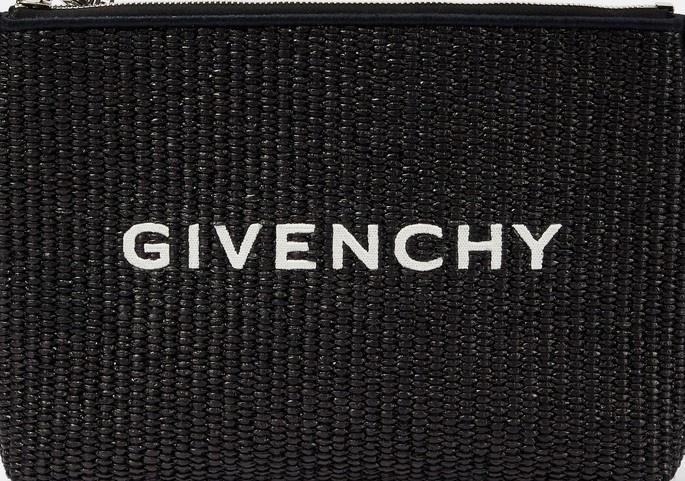GIVENCHY: (116, 203, 569, 292)
